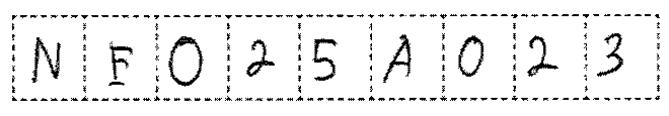0: (163, 33, 206, 88), (455, 30, 488, 79)
2: (523, 32, 563, 85), (244, 34, 278, 80)
3: (595, 28, 630, 81)
5: (306, 33, 344, 86)
A: (379, 33, 417, 87)
E: (102, 37, 138, 92)
N: (25, 29, 71, 89)
